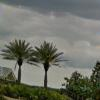Palm tree: (5, 27, 57, 91)
